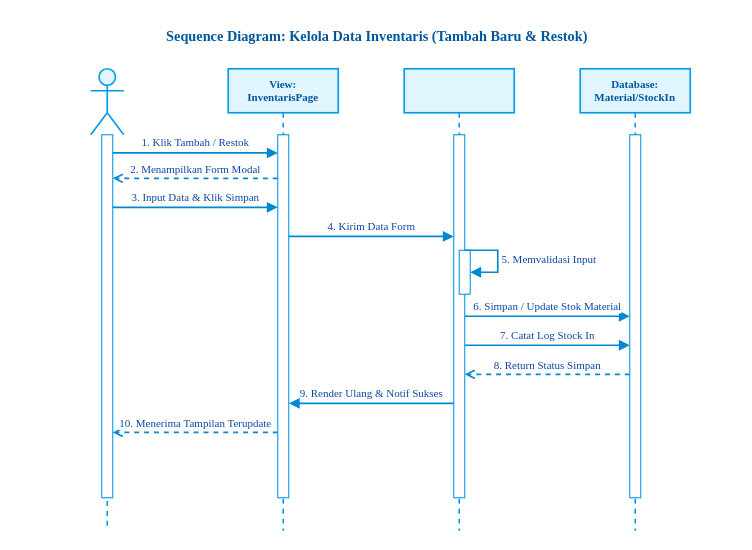
Some shapes in this 752 by 550 pixel diagram are drawn without their labels. The shapes that lost their labels are listed below. From the top down, each one's box as (x1, y1, x2, y2) in pixels, then its label:
(89, 67, 124, 531): Pengguna (Admin/Logistik)
(403, 67, 515, 531): Component: Materials
